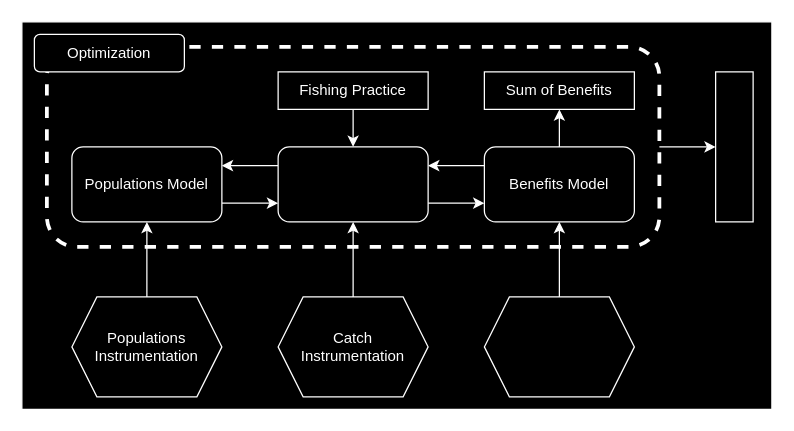
Some shapes in this 794 by 431 pixel diagram are drawn without their labels. Here are the shapes that lost their labels. From the top down, the centre of each, then its label:
point 733,146: Best Practice
point 352,184: Catch Model
point 558,346: Benefits Instrumentation
